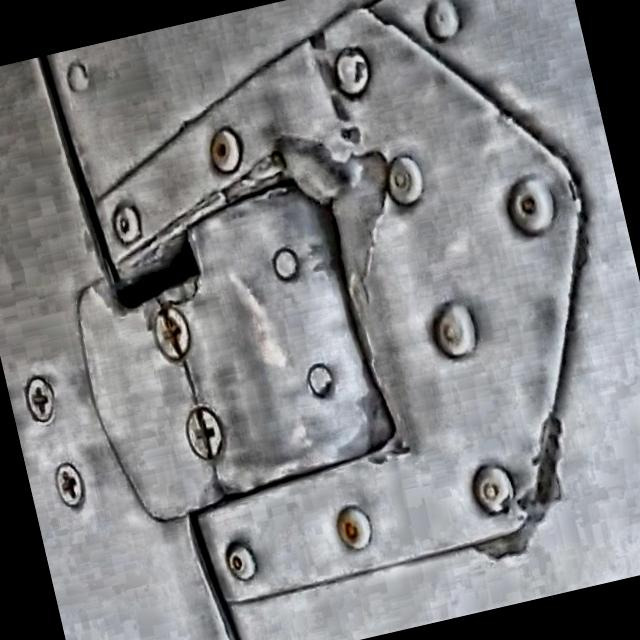crack: (176, 369, 204, 412)
